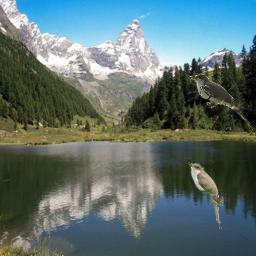Cuckoo: (189, 74, 255, 130), (186, 161, 223, 230)
